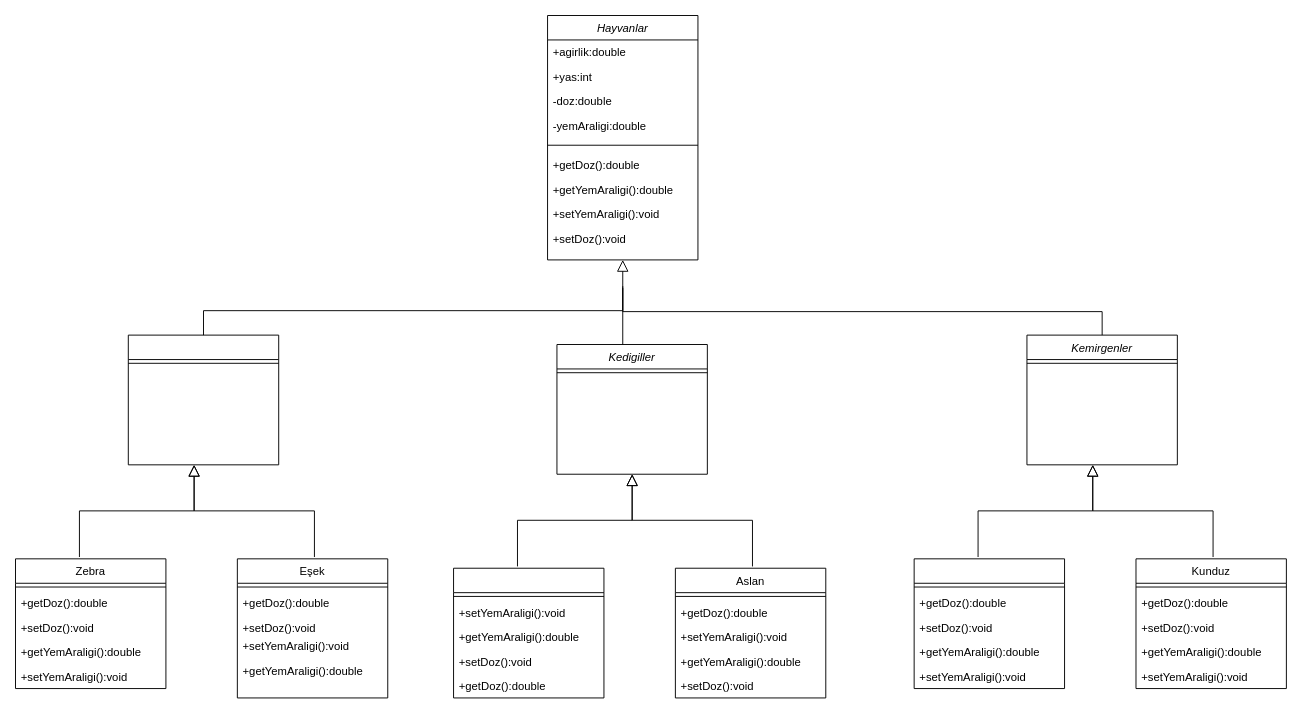
The diagram is 1302 pixels wide and 713 high, and some of its shapes have lost their labels. Each missing label, with the box of its shape:
Atlar: (127, 334, 279, 465)
Kaplan: (453, 567, 604, 698)
Sican: (913, 558, 1065, 689)
